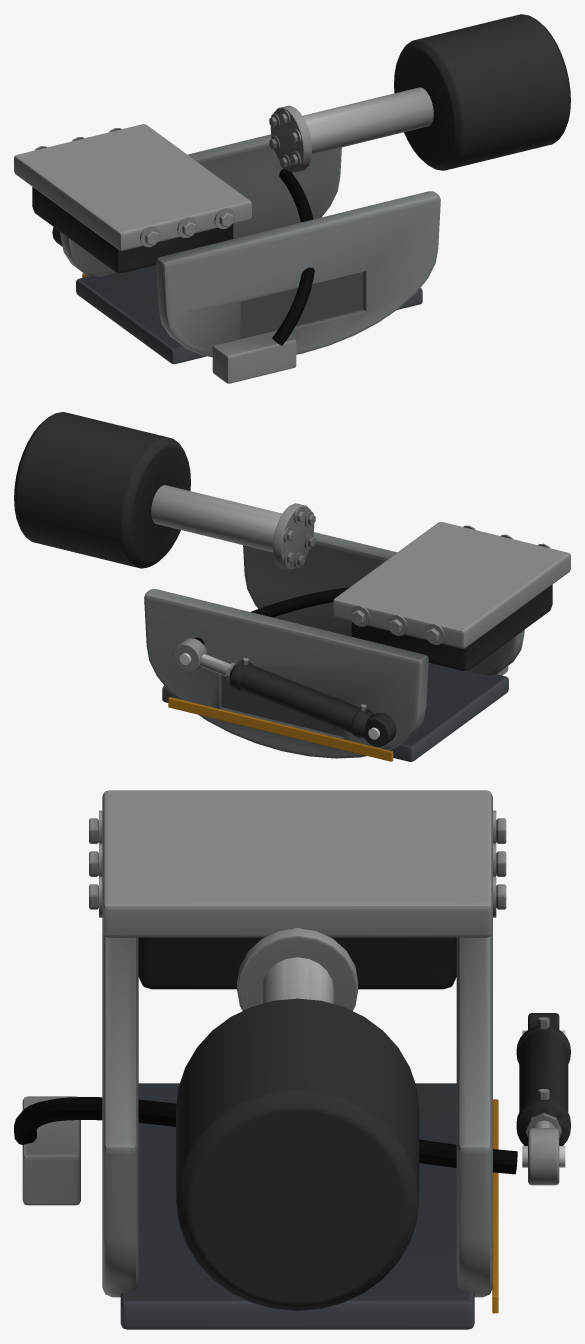
File: bastion.fold_knee_left.glb
3 views of the same model, one above another, from view 1: azimuth 30°, elevation 25°; view 2: azimuth 150°, elevation 25°; view 3: azimuth 270°, elevation 25° (orthographic). The views are drawn at different scales.
Bounding box in the file's own units: 1.53 × 0.7 × 0.8587.
